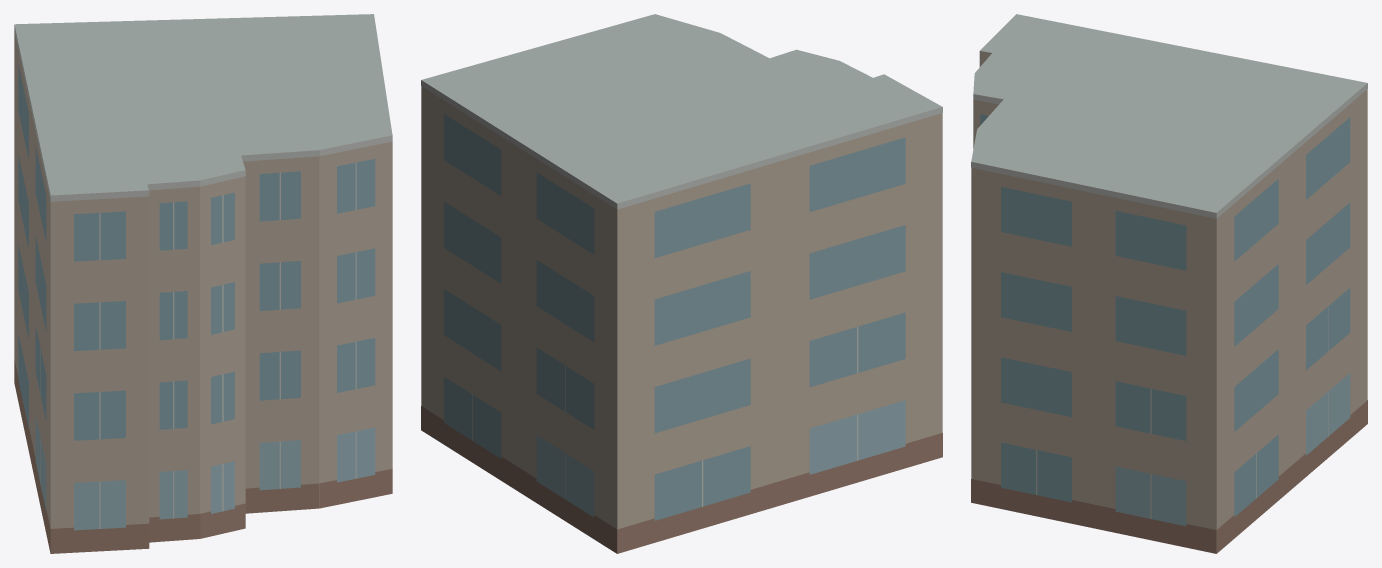
File: survey-upis-32484400.glb
The picture shows the model from 3 angles, left to right: view 1: azimuth 30°, elevation 25°; view 2: azimuth 150°, elevation 25°; view 3: azimuth 270°, elevation 25°; orthographic projection. The views are drawn at different scales.
Visible parts, largest first — view 1: survey-upis-32484400.tmp; view 2: survey-upis-32484400.tmp; view 3: survey-upis-32484400.tmp.
Part boxes in pixels (x1,y1,x2,y2): survey-upis-32484400.tmp: (14, 14, 392, 553); survey-upis-32484400.tmp: (421, 14, 942, 553); survey-upis-32484400.tmp: (971, 14, 1367, 553).
Bounding box in the file's own units: 17.78 × 14.2 × 14.98.
